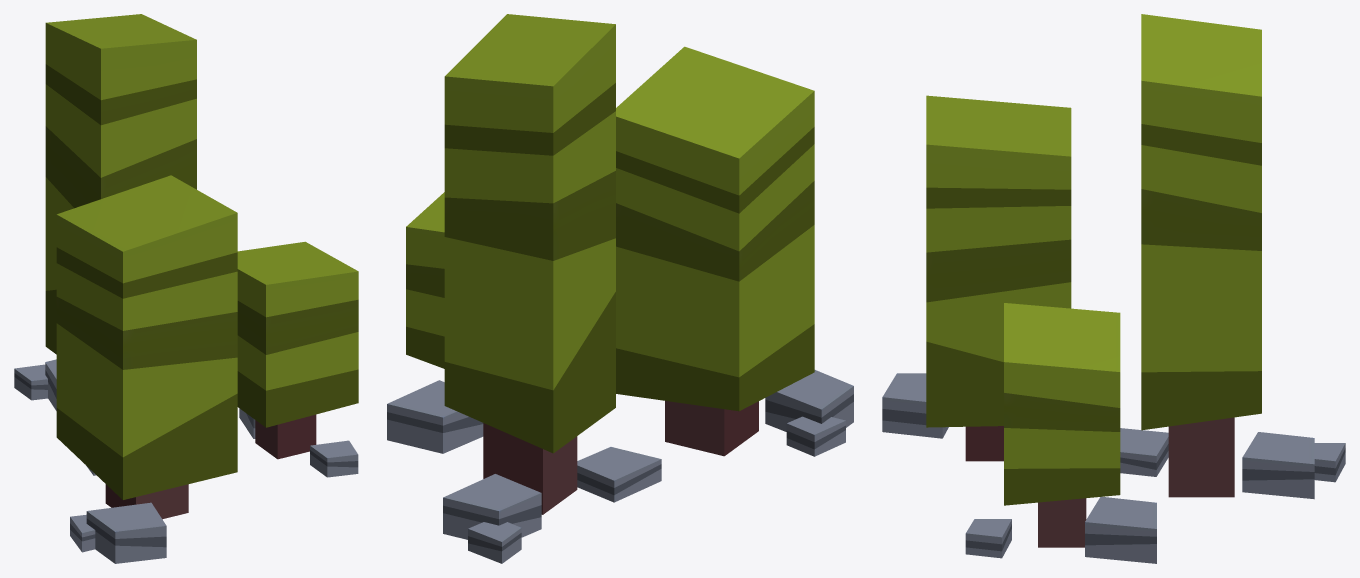
Rendered from tree13.FBX.
3 renders of one model, left to right at view 1: azimuth 30°, elevation 25°; view 2: azimuth 150°, elevation 25°; view 3: azimuth 270°, elevation 25°, orthographic. The views are drawn at different scales.
Parts seen in each view (by area): view 1: tree13; view 2: tree13; view 3: tree13.
Part boxes in pixels (<box>): tree13: <box>14,14,358,563</box>; tree13: <box>387,14,853,563</box>; tree13: <box>882,14,1345,563</box>.
Bounding box in the file's own units: 58.73 × 70.66 × 75.13.
